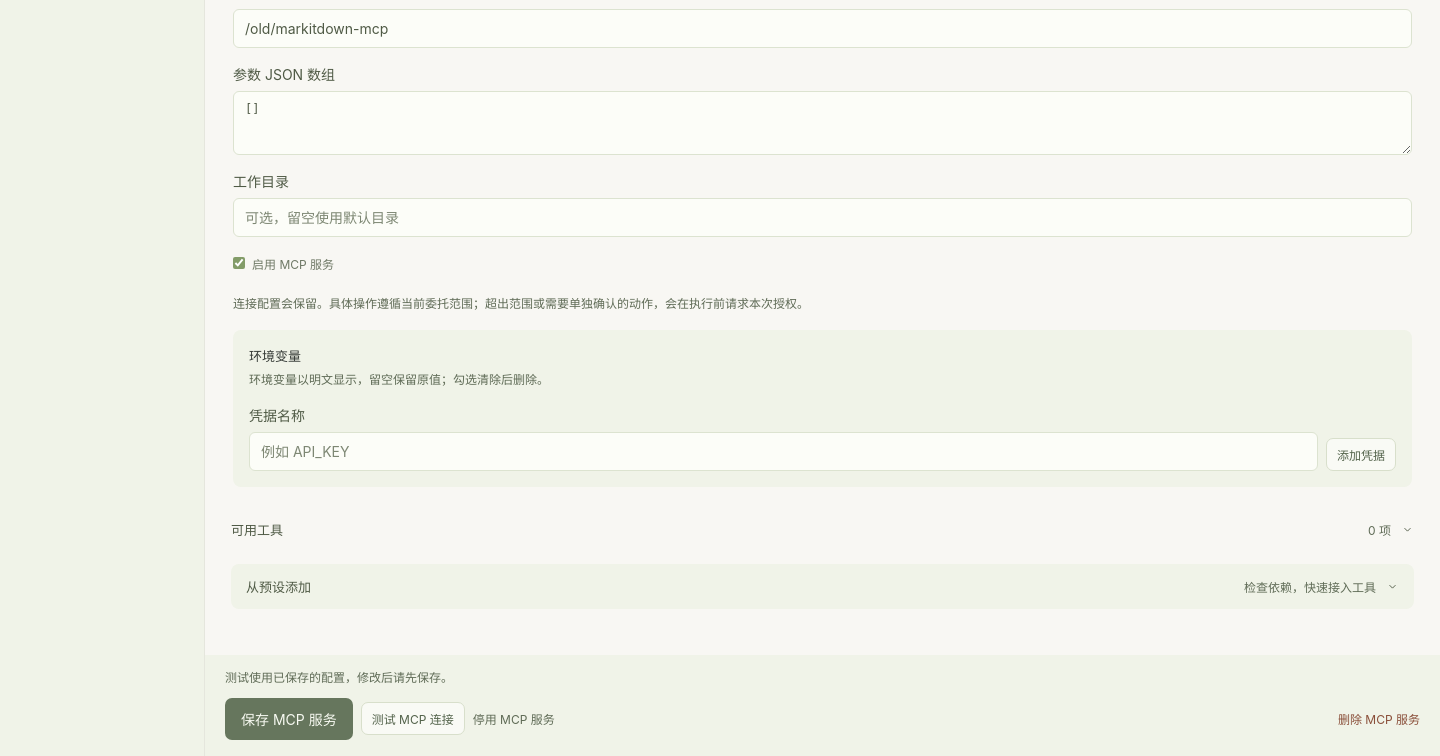
it: caught connection failures still expose preset setup and preserve the thrown error
(page scrolled)
Click the button "测试 MCP 连接".
click(413, 719)  # box [361,702,465,736]
(page scrolled)
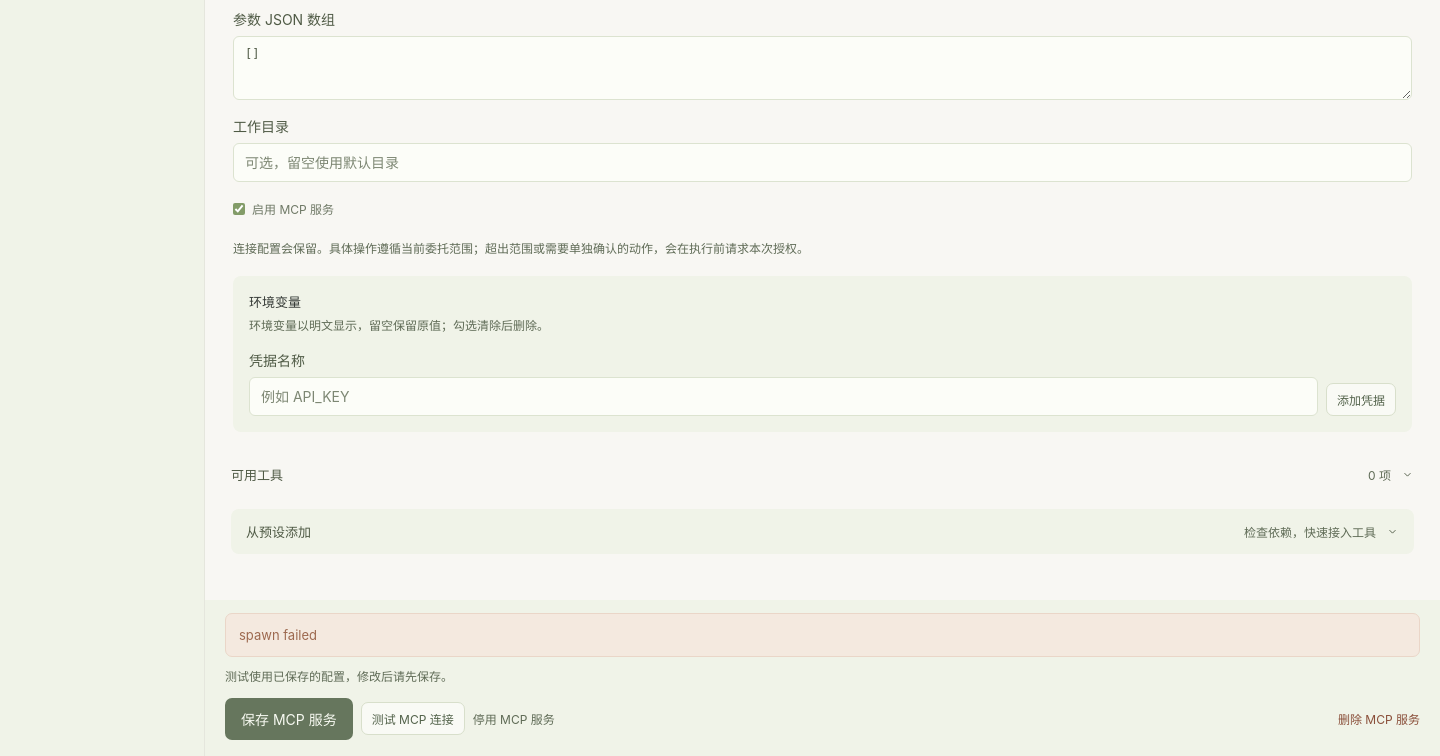
Now the text "spawn failed" is shown, box [225,613,1420,657]
